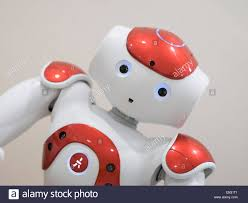nao: (39, 13, 220, 187)
